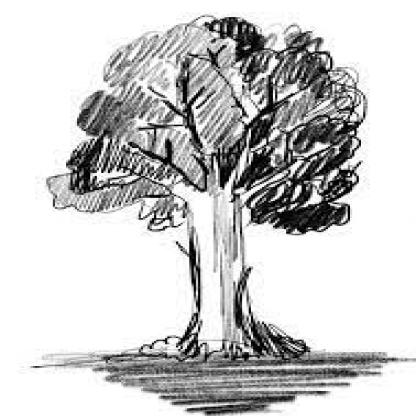branch_line: (125, 57, 326, 196)
crown_cloud: (45, 14, 370, 237)
root_none: (134, 328, 352, 382)
trunk_bark: (179, 227, 261, 313)
